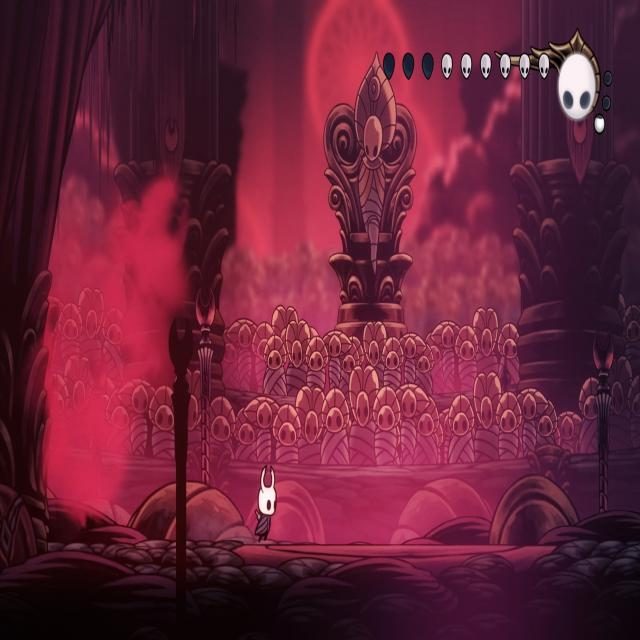Player: (253, 459, 280, 547)
